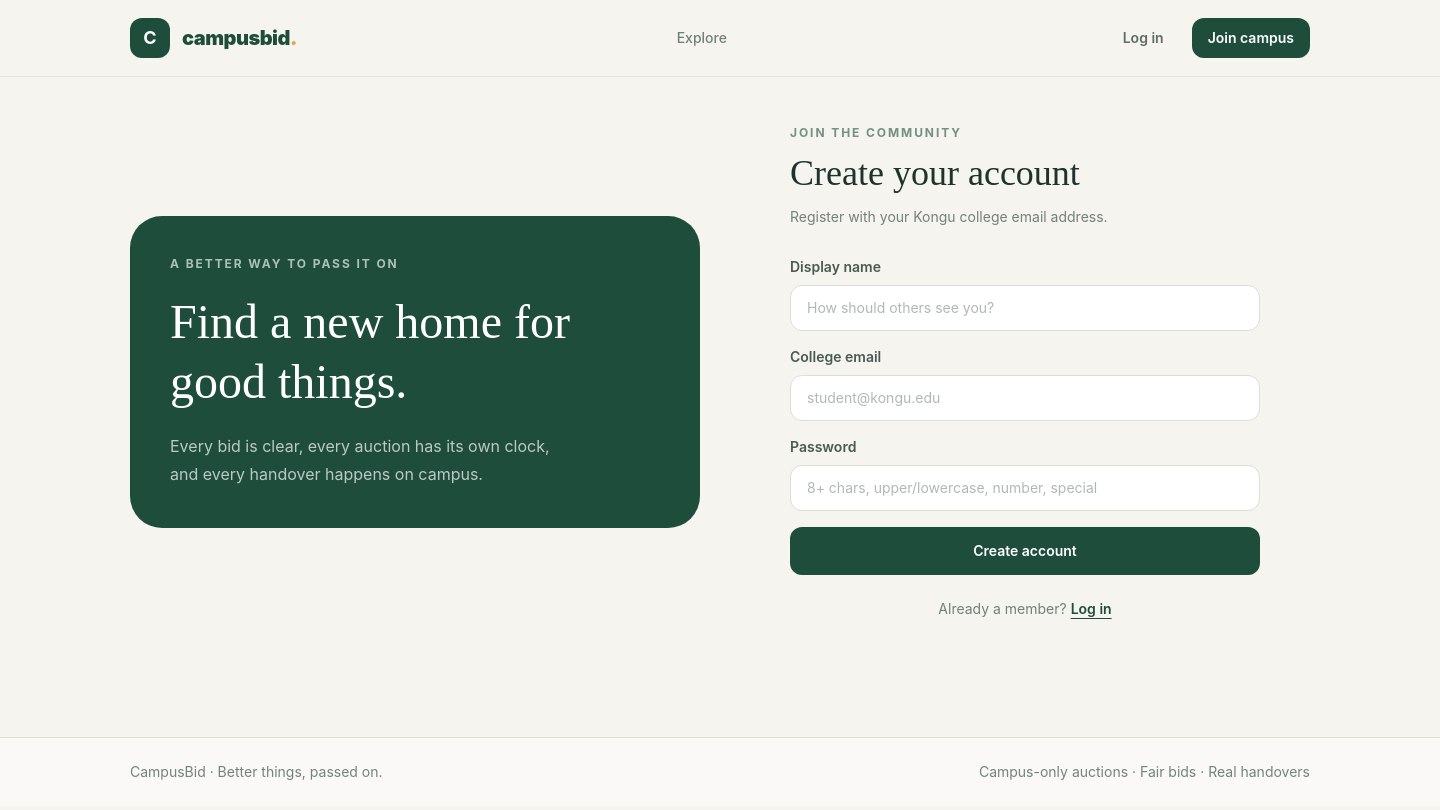
it: CampusBid registration validation › trims and normalizes a valid Kongu email without changing the password
Type "Kongu Student" into the field labelled "Display name". click: (1025, 308)
box: x1=790 y1=285 x2=1260 y2=331
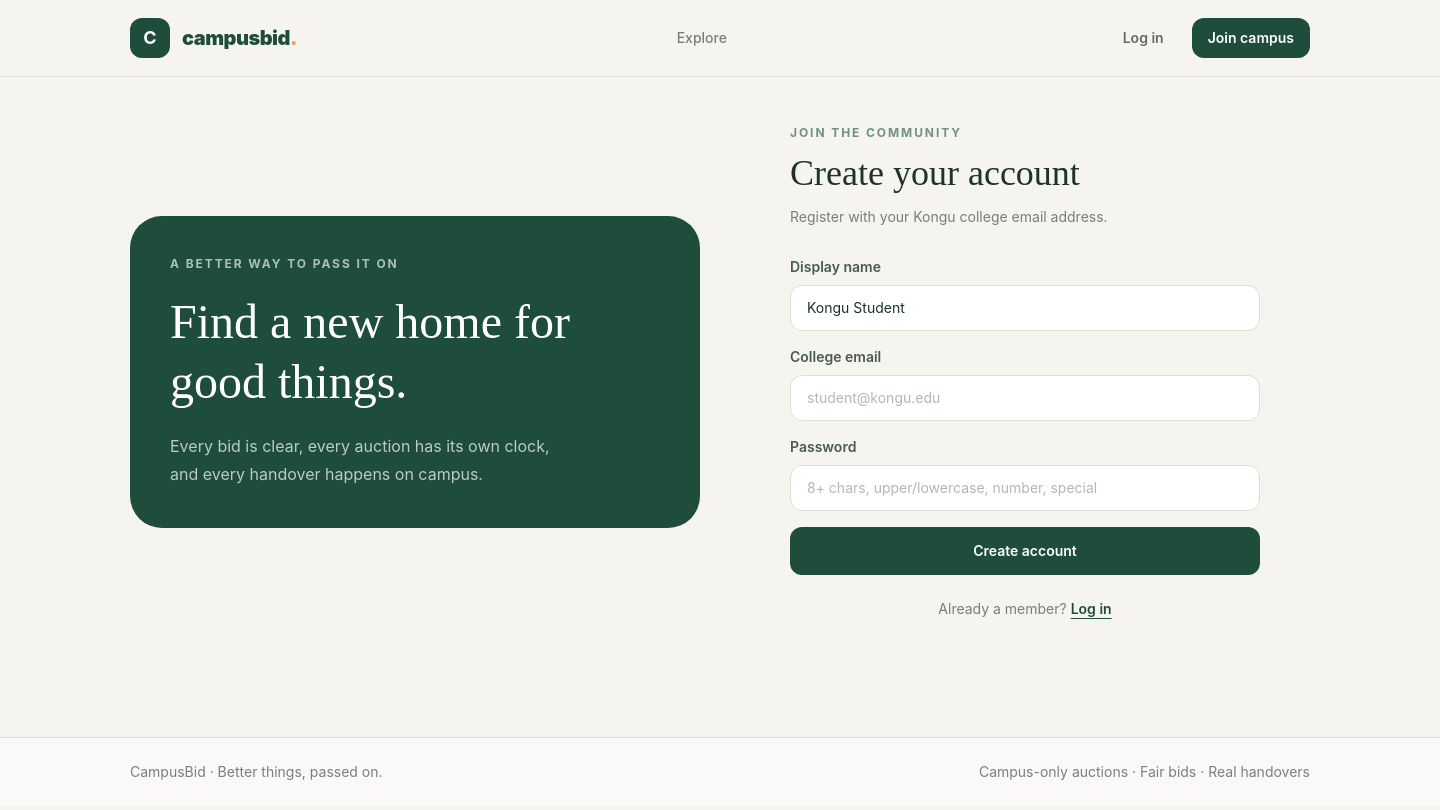
Type "  Student+Lab@KONGU.EDU  " into the field labelled "College email". click: (1025, 398)
box: x1=790 y1=375 x2=1260 y2=421
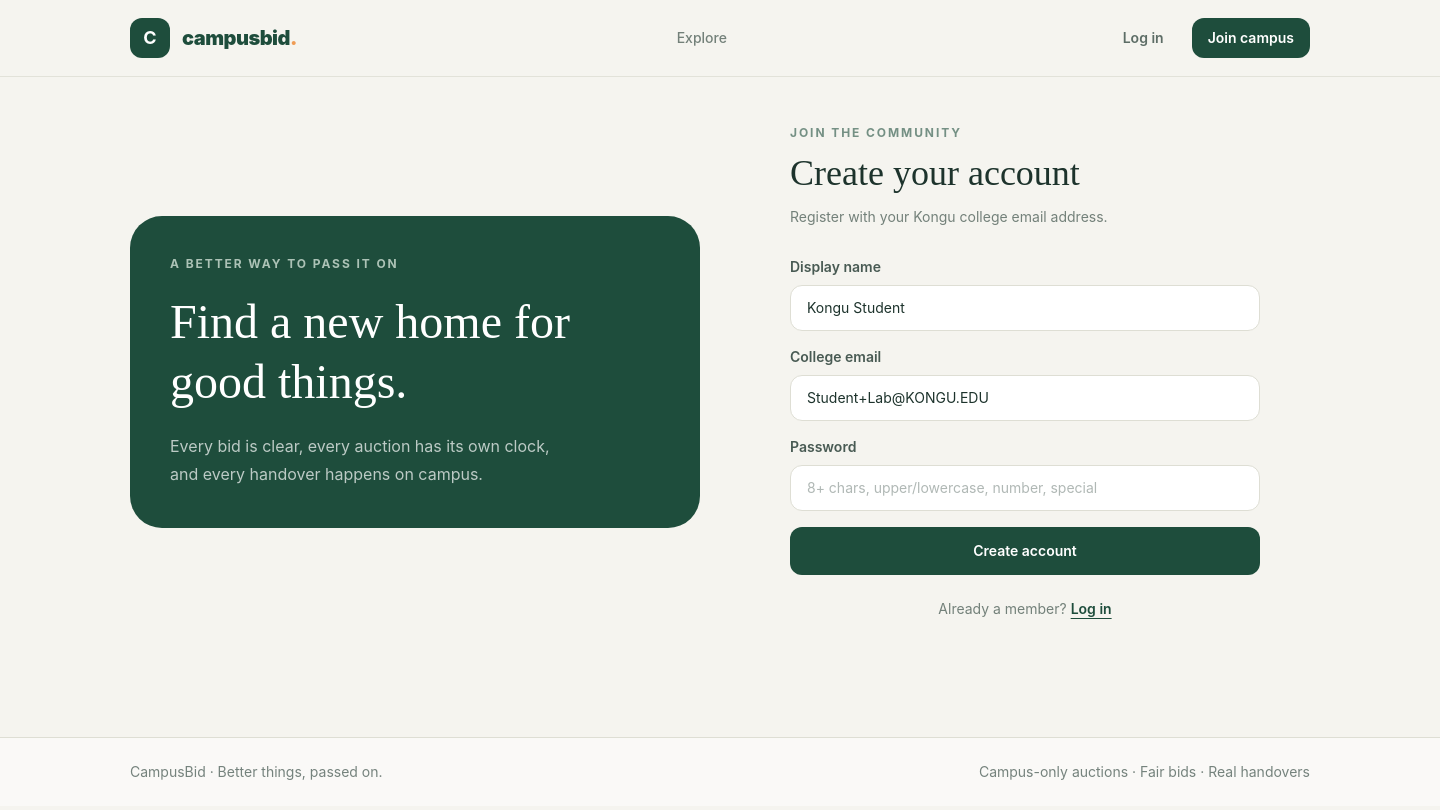
Type "Campus@123" into the password field labelled "Password". click: (1025, 488)
box: x1=790 y1=465 x2=1260 y2=511
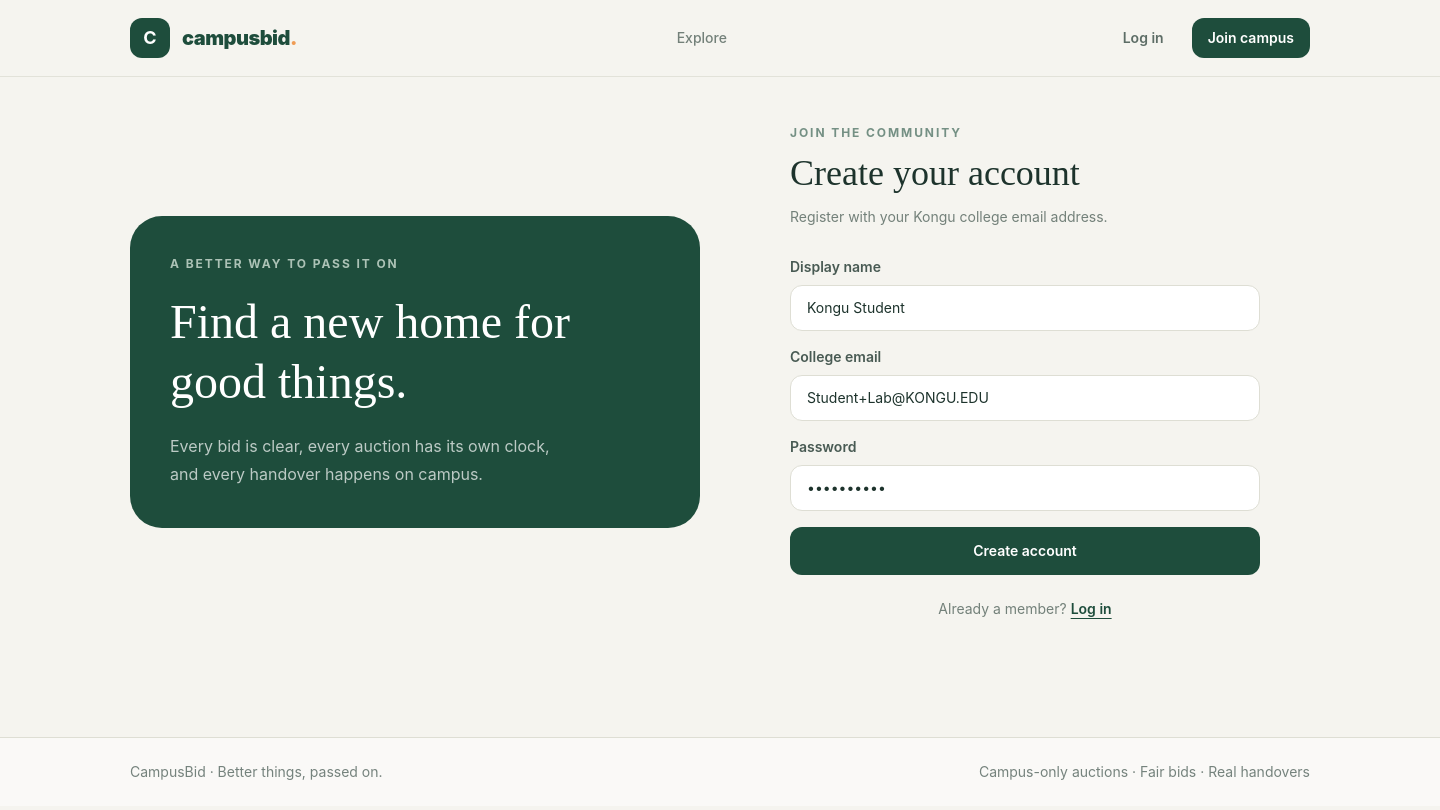
Click the button "Create account". click: (1025, 551)
box: x1=790 y1=527 x2=1260 y2=575
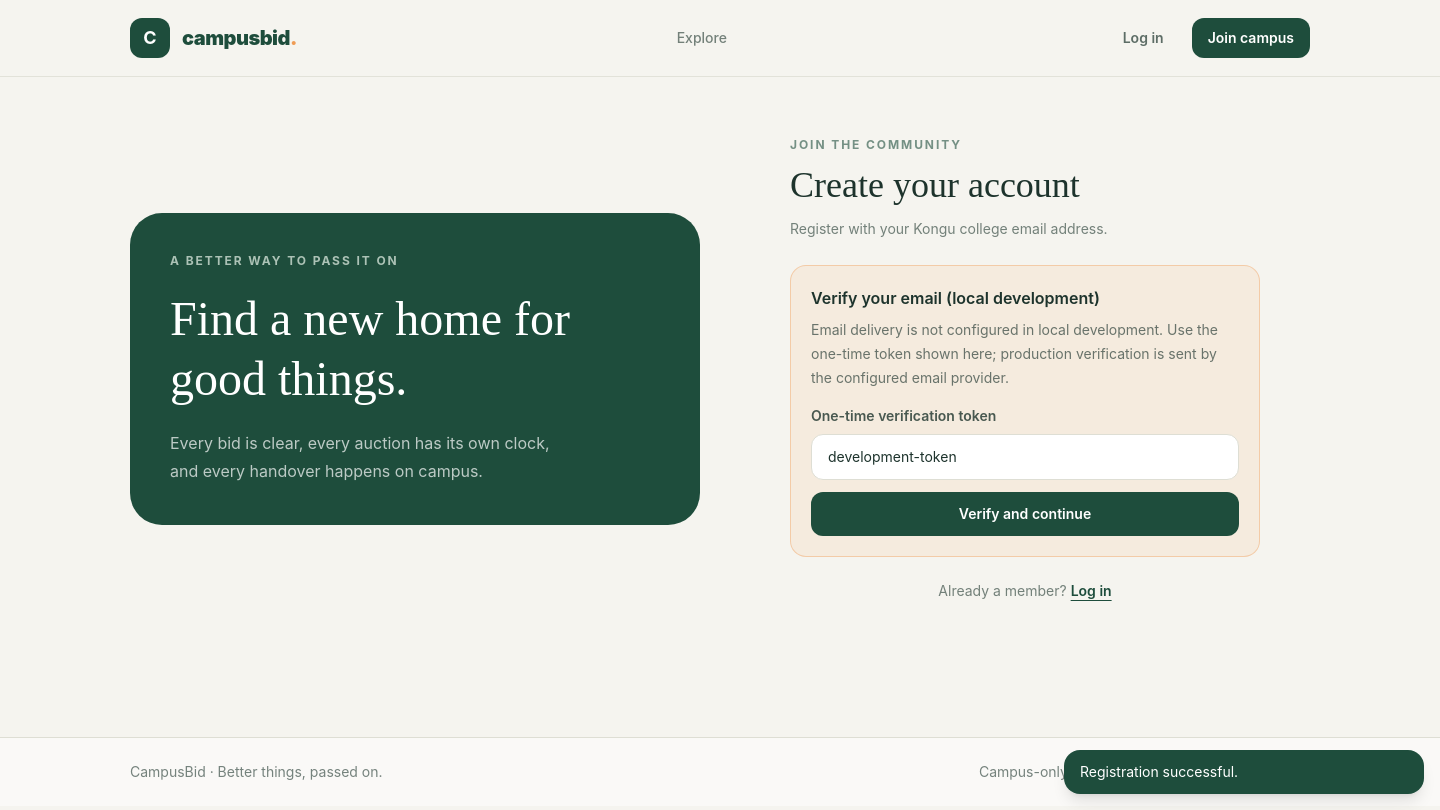
Now the text "Verify your email (local development)" is shown, box x1=811 y1=288 x2=1100 y2=308
